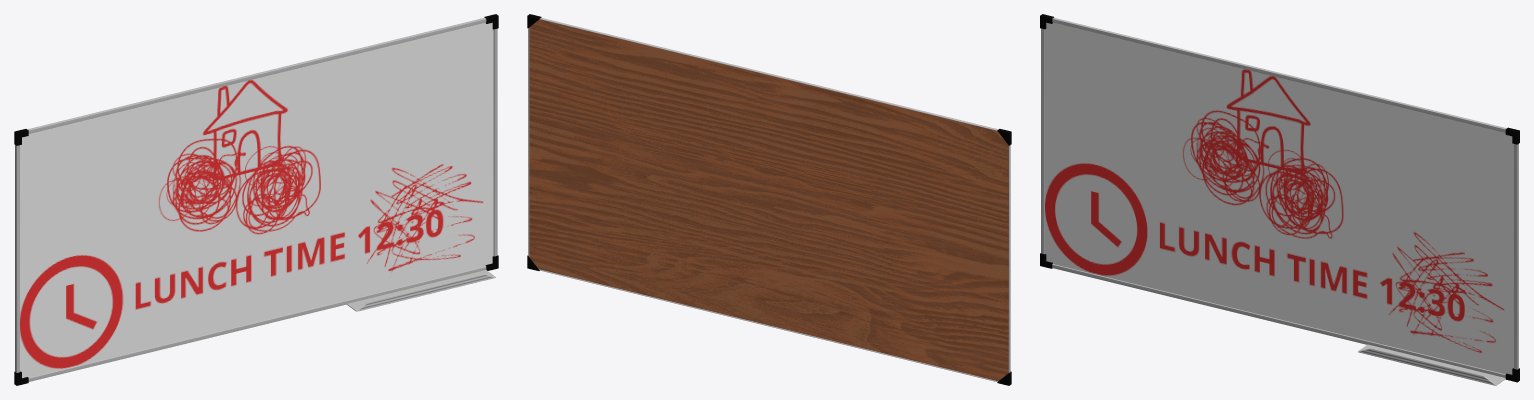
Rendered from Lavagnetta.fbx.
3 renders of one model, left to right at view 1: azimuth 30°, elevation 25°; view 2: azimuth 150°, elevation 25°; view 3: azimuth 330°, elevation 25°, orthographic.
Visible parts, largest first — view 1: Whiteboard.001; view 2: Whiteboard.001; view 3: Whiteboard.001.
Boxes of the visible parts, x1,y1,x2,y2 form: Whiteboard.001: (14,14,498,385); Whiteboard.001: (527,14,1011,385); Whiteboard.001: (1040,14,1519,385).
Size of the model in its own units: 120 by 60.2 by 5.18.
Materials: 4 (2 with a texture image).
